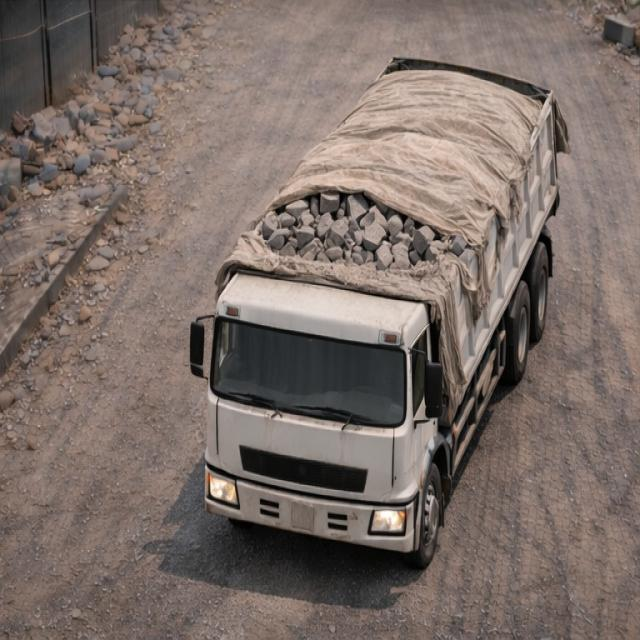trailer: (228, 55, 558, 286)
truck: (190, 46, 577, 567)
